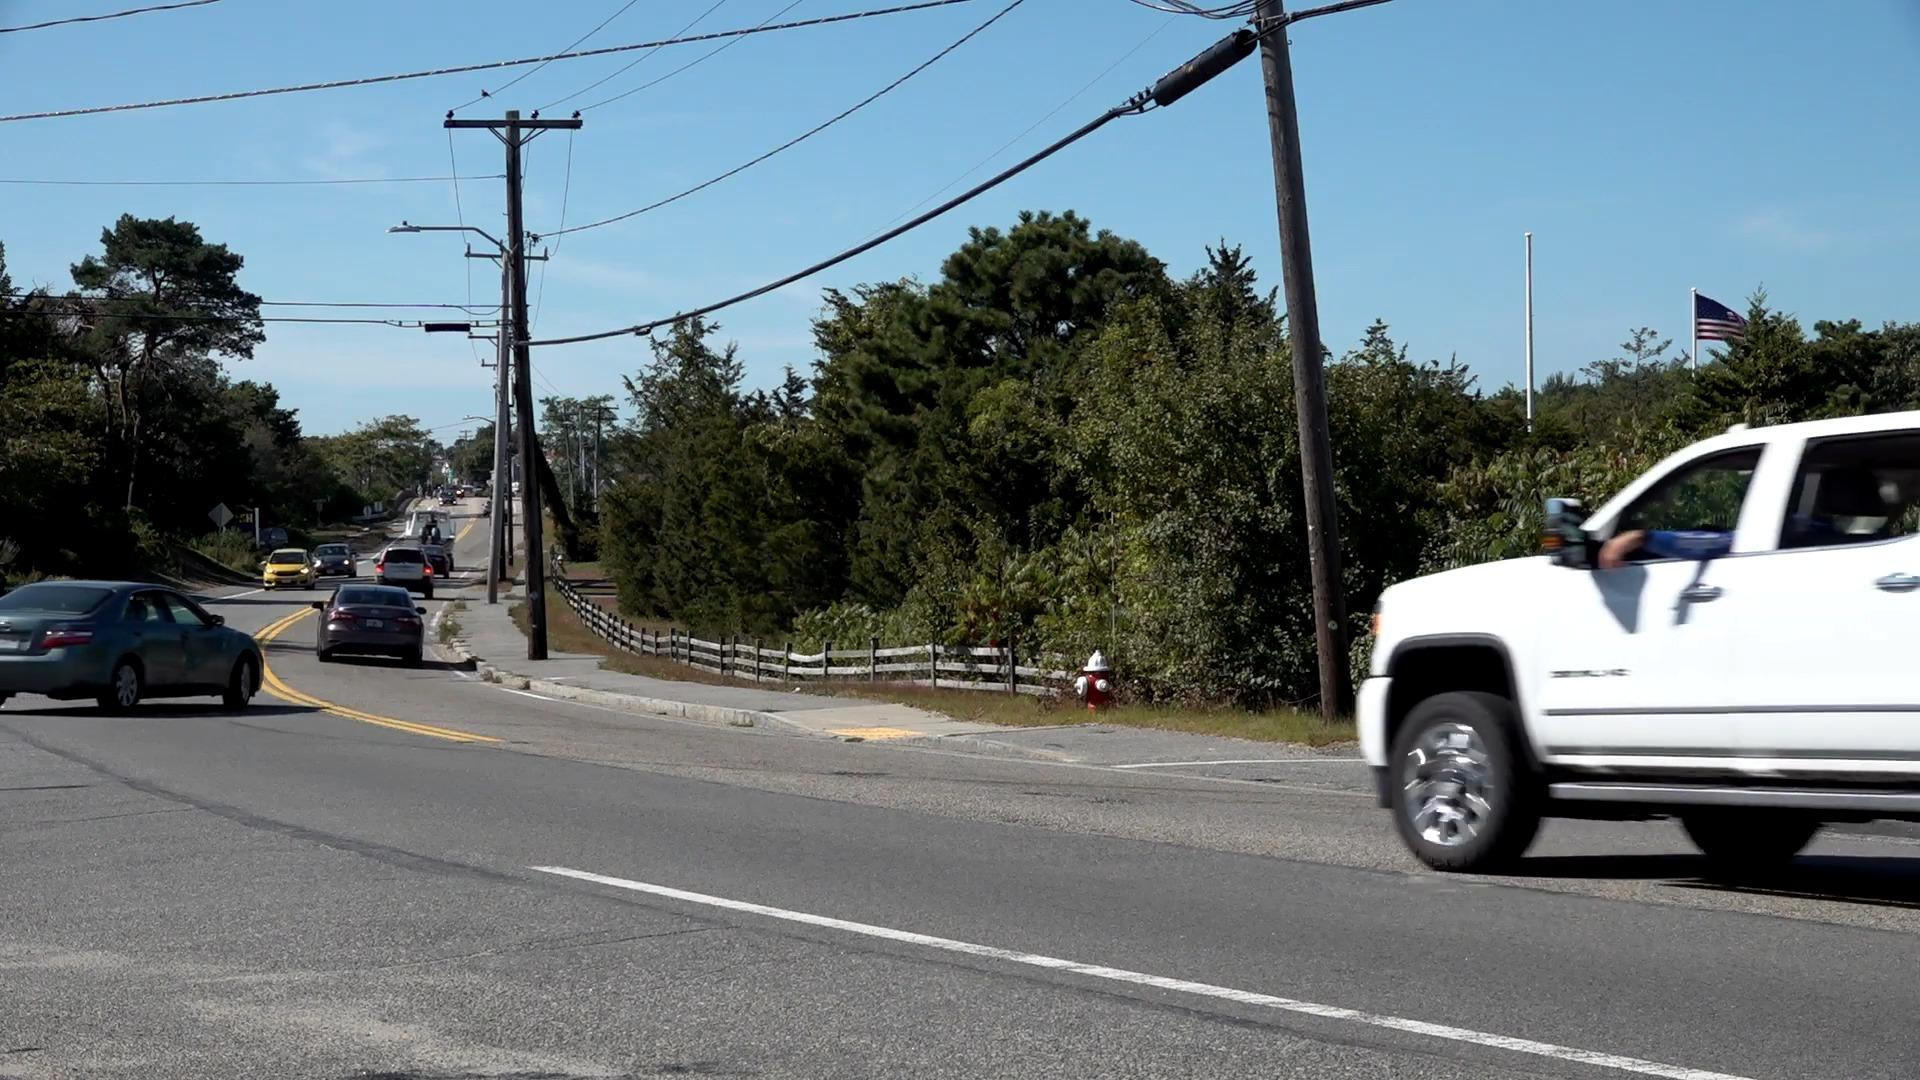pickup: (1366, 406, 1920, 897)
sedans: (0, 578, 264, 720), (326, 582, 421, 661)
